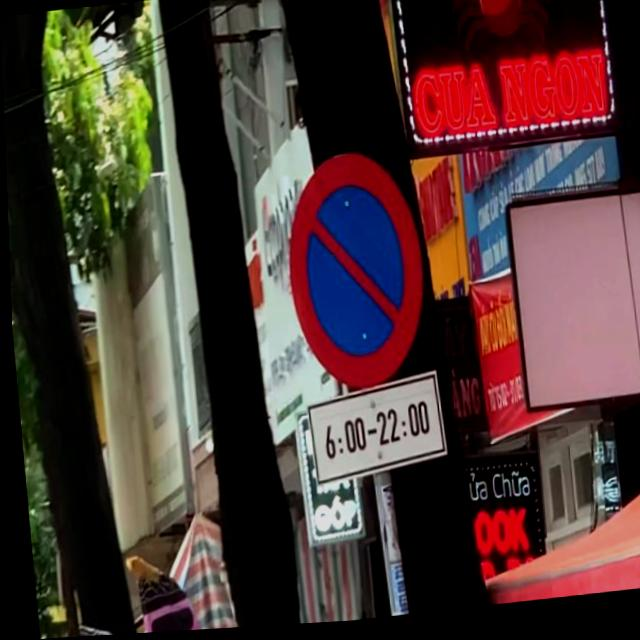Cam do xe: (276, 146, 430, 393)
